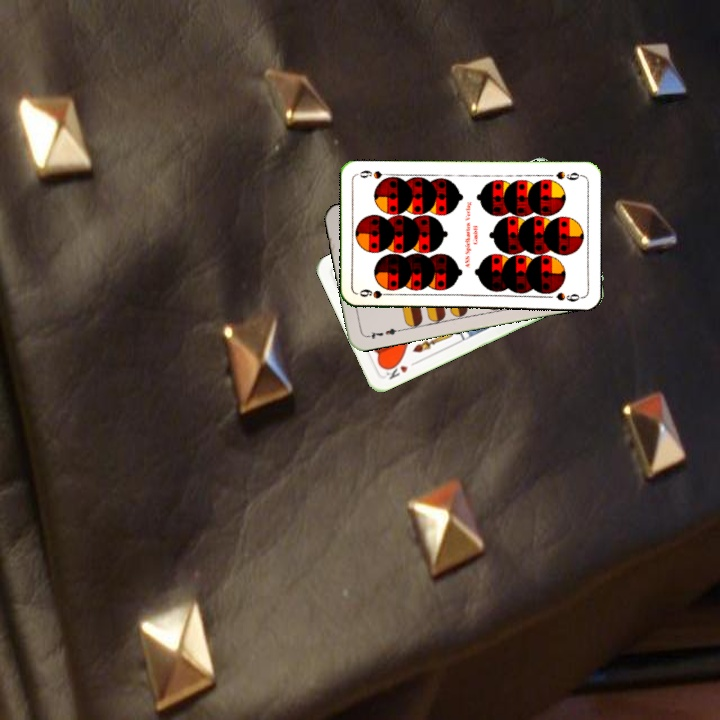E7: (362, 324, 403, 342)
HK: (380, 358, 410, 382)
S9: (356, 285, 395, 301), (552, 167, 584, 183)
